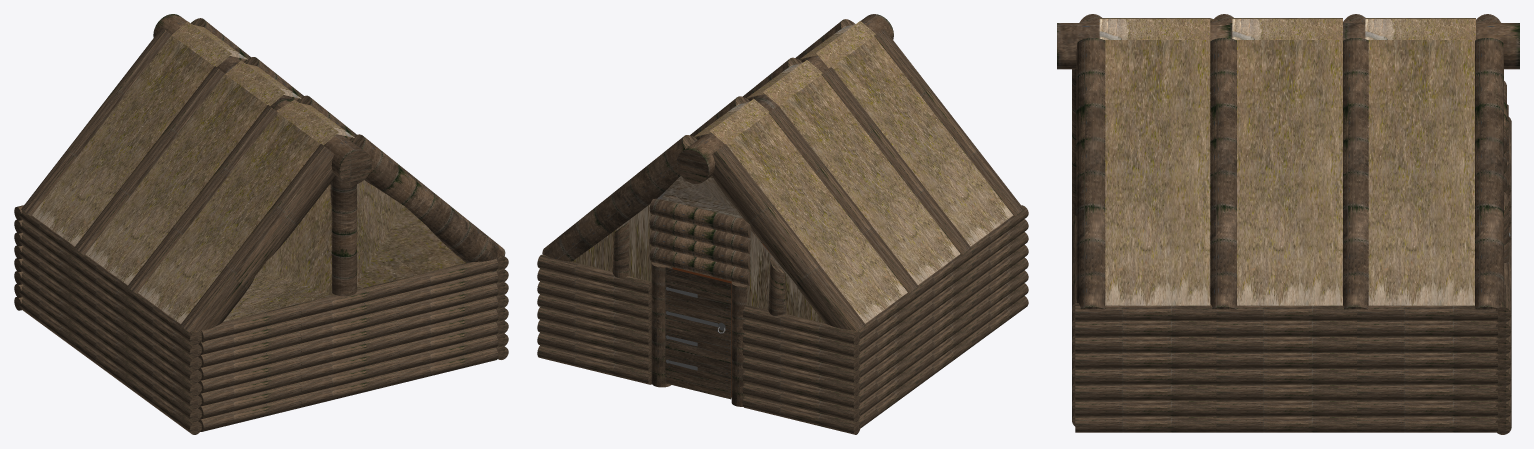
3 renders of one model, left to right at view 1: azimuth 30°, elevation 25°; view 2: azimuth 150°, elevation 25°; view 3: azimuth 270°, elevation 25°, orthographic. The views are drawn at different scales.
Visible parts, largest first — view 1: Cylinder.006; view 2: Cylinder.006; view 3: Cylinder.006.
Part boxes in pixels (left/top/right/bottom): Cylinder.006: left=14, top=14, right=508, bottom=434; Cylinder.006: left=537, top=14, right=1028, bottom=434; Cylinder.006: left=1057, top=14, right=1519, bottom=434.
Size of the model in its own units: 5237 by 4017 by 5252.
Materials: 17 (14 with a texture image).
